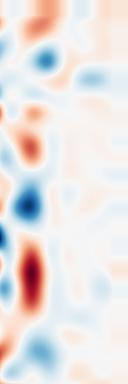filament: (12, 230, 56, 320)
